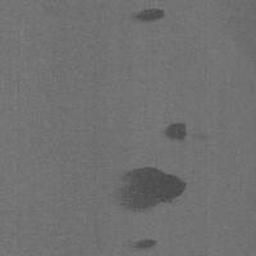Oil spot: (113, 166, 188, 214), (128, 8, 165, 24), (163, 122, 188, 143), (128, 238, 159, 251), (192, 133, 209, 141)
